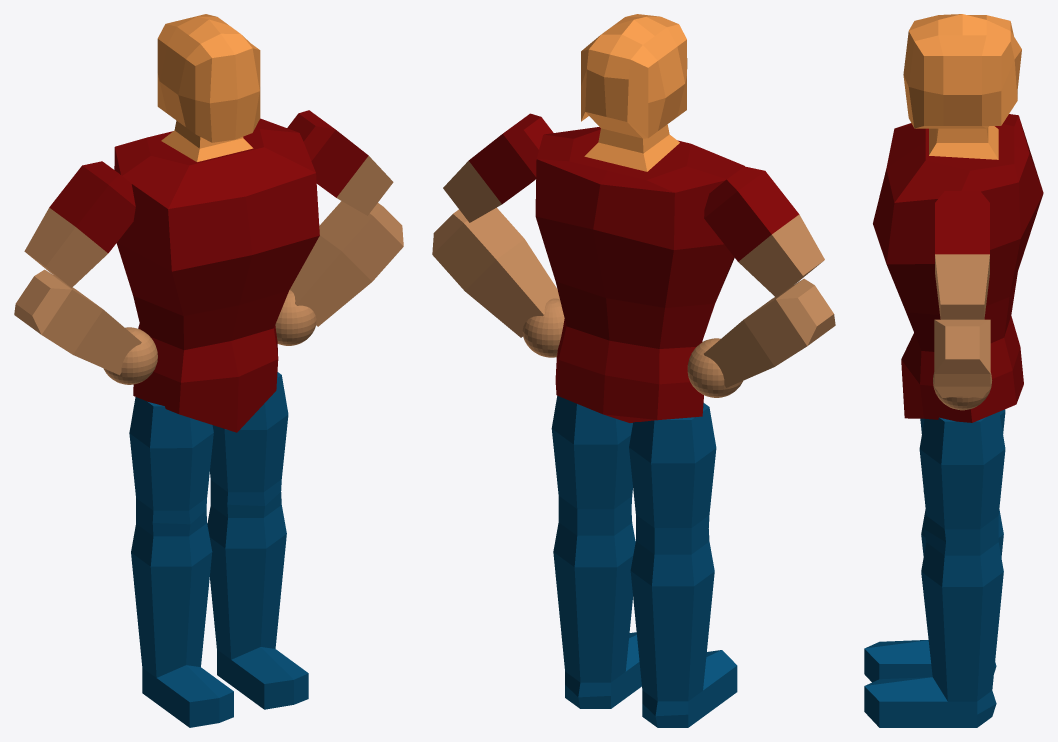
File: Hbody.fbx
The picture shows the model from 3 angles, left to right: view 1: azimuth 30°, elevation 25°; view 2: azimuth 150°, elevation 25°; view 3: azimuth 270°, elevation 25°; orthographic projection. The views are drawn at different scales.
Parts seen in each view (by area): view 1: Cube, right, Left, Cube.001, Sphere.001, Sphere, Cube.003, Cube.006, Cube.002, Cube.004; view 2: Cube, right, Left, Cube.001, Sphere.001, Sphere, Cube.003, Cube.002, Cube.006, Cube.004; view 3: Left, Cube, Cube.001, Sphere.001, Cube.002, Cube.004, right.
Boxes of the visible parts, left/top/right/bottom form: Cube: left=114, top=118, right=319, bottom=432; right: left=129, top=397, right=233, bottom=727; Left: left=207, top=372, right=308, bottom=709; Cube.001: left=157, top=14, right=260, bottom=161; Sphere.001: left=275, top=201, right=403, bottom=345; Sphere: left=14, top=269, right=157, bottom=384; Cube.003: left=49, top=161, right=135, bottom=253; Cube.006: left=24, top=207, right=107, bottom=287; Cube.002: left=287, top=110, right=368, bottom=197; Cube.004: left=336, top=156, right=393, bottom=215; Cube: left=535, top=127, right=744, bottom=422; right: left=629, top=403, right=737, bottom=727; Left: left=551, top=396, right=641, bottom=708; Cube.001: left=581, top=14, right=687, bottom=171; Sphere.001: left=432, top=207, right=564, bottom=357; Sphere: left=687, top=278, right=835, bottom=397; Cube.003: left=704, top=166, right=799, bottom=261; Cube.002: left=468, top=113, right=553, bottom=204; Cube.006: left=738, top=214, right=824, bottom=297; Cube.004: left=443, top=161, right=501, bottom=222; Left: left=864, top=412, right=1005, bottom=727; Cube: left=873, top=114, right=1043, bottom=422; Cube.001: left=903, top=14, right=1021, bottom=159; Sphere.001: left=933, top=319, right=992, bottom=410; Cube.002: left=935, top=191, right=989, bottom=254; Cube.004: left=935, top=254, right=989, bottom=319; right: left=864, top=409, right=1005, bottom=682.
Bounding box in the file's own units: 992 × 1702 × 404.
